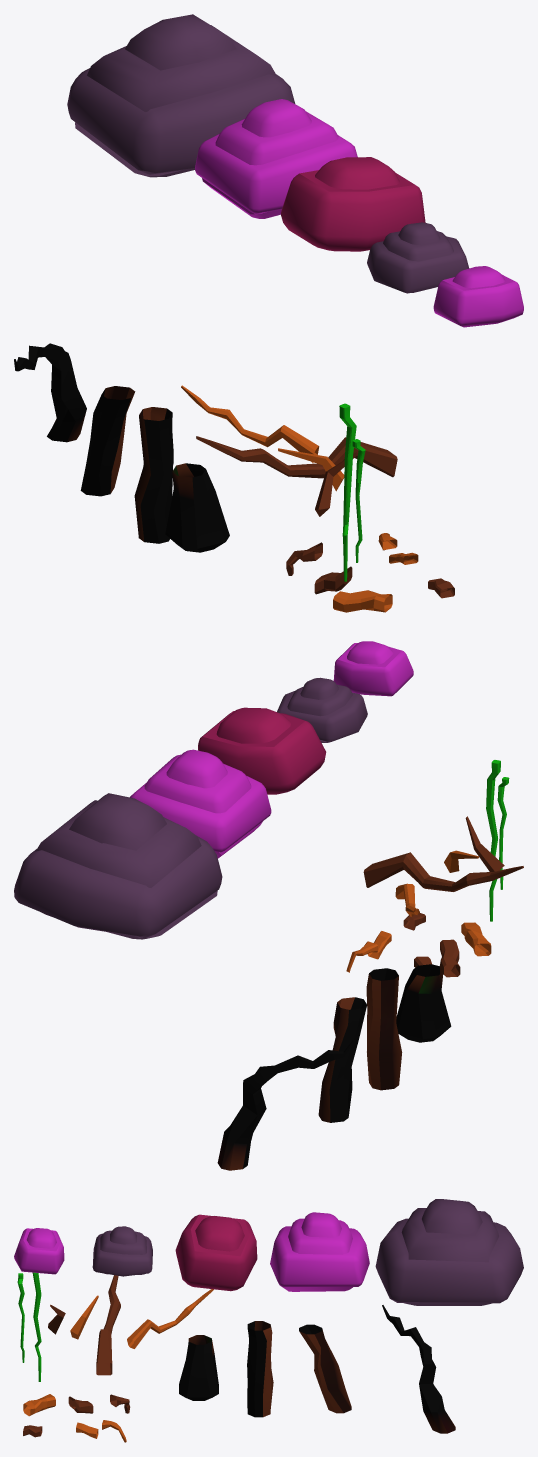
The model's file is Modular_Tree_Assets.FBX.
3 views of the same model, one above another, from view 1: azimuth 30°, elevation 25°; view 2: azimuth 150°, elevation 25°; view 3: azimuth 270°, elevation 25° (orthographic). The views are drawn at different scales.
Parts seen in each view (by area): view 1: Tree_Leaves_B_04, Tree_Leaves_B_01, Tree_Leaves_B_03, Tree_Leaves_B_02, Tree_Trunk_B_01, Tree_Leaves_B_00, Tree_Trunk_B_00, Tree_Trunk_B_02, Tree_Trunk_B_03, Tree_Branch_B_03, Tree_Branch_B_02, Tree_Vines_B_00 (+1 smaller); view 2: Tree_Leaves_B_04, Tree_Leaves_B_01, Tree_Leaves_B_03, Tree_Trunk_B_01, Tree_Leaves_B_02, Tree_Trunk_B_03, Tree_Leaves_B_00, Tree_Trunk_B_02, Tree_Trunk_B_00, Tree_Branch_B_03, Tree_Vines_B_00, Tree_Branch_B_06 (+1 smaller); view 3: Tree_Leaves_B_04, Tree_Leaves_B_01, Tree_Leaves_B_03, Tree_Leaves_B_02, Tree_Trunk_B_01, Tree_Trunk_B_02, Tree_Trunk_B_00, Tree_Trunk_B_03, Tree_Leaves_B_00, Tree_Branch_B_03, Tree_Branch_B_02, Tree_Vines_B_00 (+4 smaller).
Part boxes in pixels (x1,y1,x2,y2): Tree_Leaves_B_04: (67, 14, 295, 177); Tree_Leaves_B_01: (195, 99, 357, 218); Tree_Leaves_B_03: (281, 157, 425, 251); Tree_Leaves_B_02: (367, 222, 469, 293); Tree_Trunk_B_01: (134, 407, 173, 543); Tree_Leaves_B_00: (433, 266, 523, 327); Tree_Trunk_B_00: (165, 463, 229, 552); Tree_Trunk_B_02: (80, 386, 135, 496); Tree_Trunk_B_03: (14, 343, 86, 442); Tree_Branch_B_03: (196, 436, 397, 478); Tree_Branch_B_02: (181, 385, 319, 462); Tree_Vines_B_00: (339, 403, 356, 581); Tree_Leaves_B_04: (14, 793, 222, 939); Tree_Leaves_B_01: (130, 749, 271, 858); Tree_Leaves_B_03: (198, 707, 326, 794); Tree_Trunk_B_01: (366, 968, 402, 1090); Tree_Leaves_B_02: (277, 677, 367, 742); Tree_Trunk_B_03: (217, 1040, 354, 1170); Tree_Leaves_B_00: (333, 641, 413, 696); Tree_Trunk_B_02: (318, 997, 366, 1122); Tree_Trunk_B_00: (396, 964, 451, 1042); Tree_Branch_B_03: (363, 852, 523, 891); Tree_Vines_B_00: (486, 760, 500, 921); Tree_Branch_B_06: (440, 939, 460, 977); Tree_Leaves_B_04: (375, 1199, 523, 1305); Tree_Leaves_B_01: (270, 1212, 369, 1291); Tree_Leaves_B_03: (175, 1214, 257, 1291); Tree_Leaves_B_02: (92, 1226, 152, 1276); Tree_Trunk_B_01: (247, 1321, 273, 1417); Tree_Trunk_B_02: (299, 1324, 351, 1413); Tree_Trunk_B_00: (179, 1335, 218, 1400); Tree_Trunk_B_03: (382, 1305, 455, 1433); Tree_Leaves_B_00: (14, 1228, 64, 1274); Tree_Branch_B_03: (96, 1275, 120, 1375); Tree_Branch_B_02: (127, 1289, 213, 1348); Tree_Vines_B_00: (32, 1272, 41, 1381).
Bounding box in the file's own units: 470 × 560 × 965.
